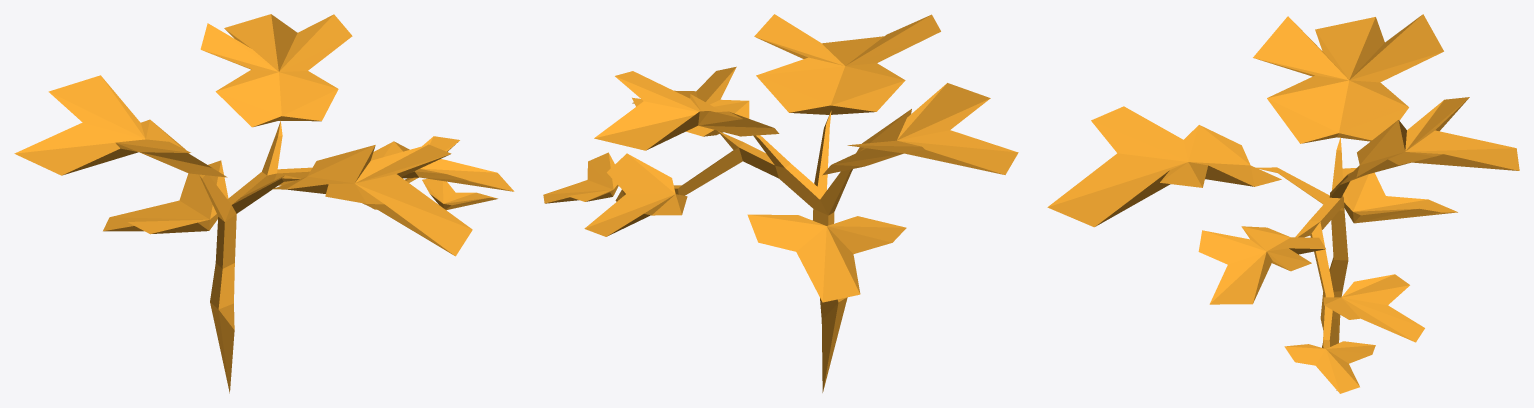
The model's file is SM_Watermelon_Plant_Seedling.fbx.
The picture shows the model from 3 angles, left to right: view 1: azimuth 30°, elevation 25°; view 2: azimuth 150°, elevation 25°; view 3: azimuth 270°, elevation 25°; orthographic projection. The views are drawn at different scales.
Visible parts, largest first — view 1: watermelon-plant-seedling; view 2: watermelon-plant-seedling; view 3: watermelon-plant-seedling.
Boxes of the visible parts, x1=… form: watermelon-plant-seedling: x1=14, y1=14, x2=514, y2=393; watermelon-plant-seedling: x1=543, y1=14, x2=1018, y2=392; watermelon-plant-seedling: x1=1047, y1=14, x2=1519, y2=393.
Bounding box in the file's own units: 0.5909 × 0.3784 × 0.5131.
